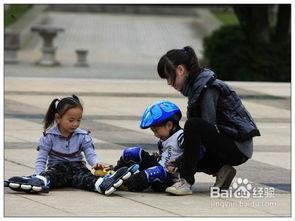Fall-Detected: (105, 90, 189, 197)
